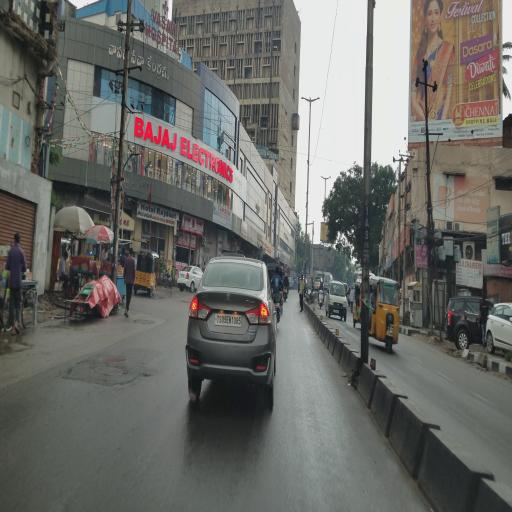street_light_0: (308, 90, 322, 107), (296, 92, 310, 108), (325, 168, 335, 185), (315, 168, 325, 185)
